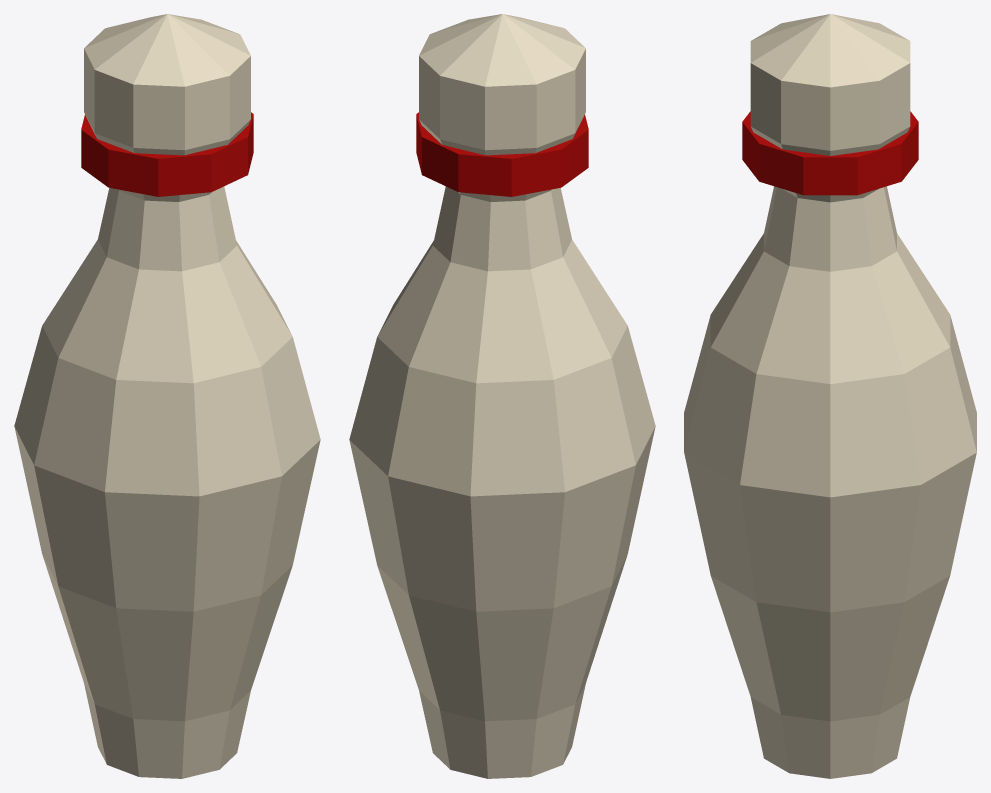
Rendered from bowling_pin.obj.
3 renders of one model, left to right at view 1: azimuth 30°, elevation 25°; view 2: azimuth 150°, elevation 25°; view 3: azimuth 270°, elevation 25°, orthographic.
Visible parts, largest first — view 1: bowling_pin; view 2: bowling_pin; view 3: bowling_pin.
Part boxes in pixels (box(x1,y1,x2,y2)): bowling_pin: box(14, 14, 320, 778); bowling_pin: box(349, 14, 655, 778); bowling_pin: box(684, 14, 976, 778).
Bounding box in the file's own units: 0.22 × 0.58 × 0.2092.
